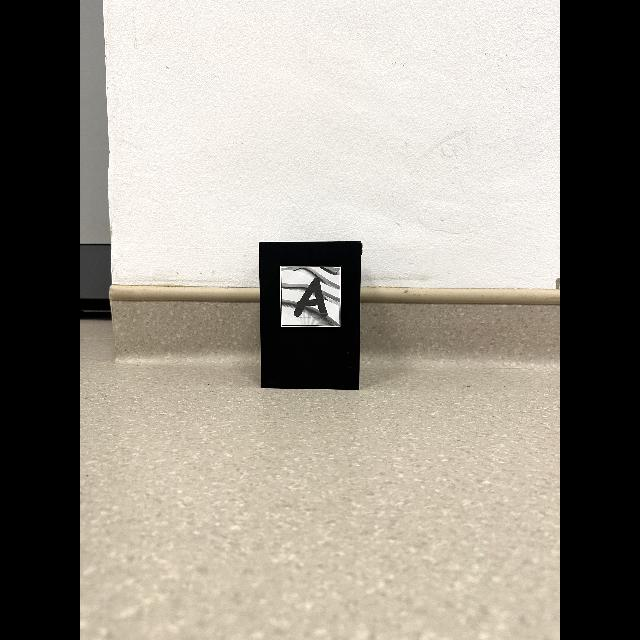A: (294, 278, 327, 317)
